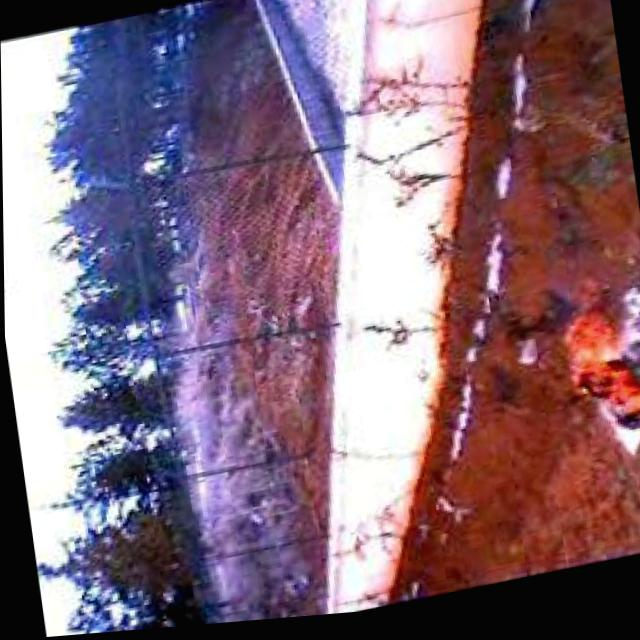helmet: (549, 280, 640, 451)
